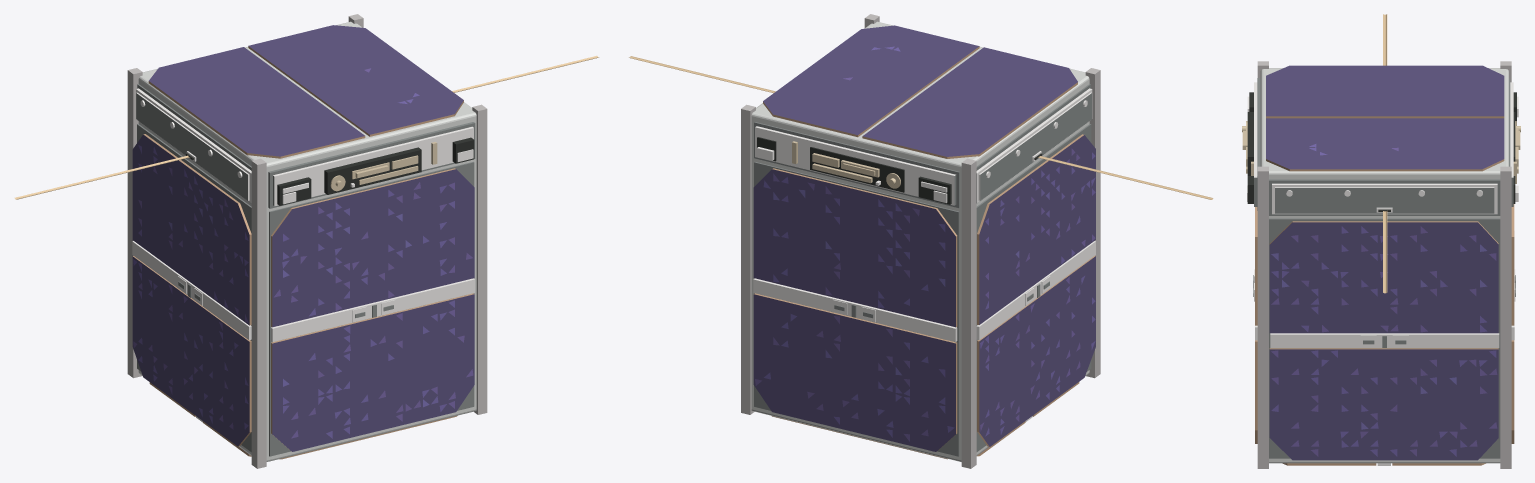
File: space-cubesat-1ru.glb
3 views of the same model, side by side, from view 1: azimuth 30°, elevation 25°; view 2: azimuth 150°, elevation 25°; view 3: azimuth 270°, elevation 25° (orthographic). The views are drawn at different scales.
Visible parts, largest first — view 1: Layer_0; view 2: Layer_0; view 3: Layer_0.
Boxes of the visible parts, bbox=[...] form: Layer_0: bbox=[14, 14, 598, 468]; Layer_0: bbox=[629, 14, 1213, 468]; Layer_0: bbox=[1242, 14, 1520, 468].
Size of the model in its own units: 5.19 by 2.6 by 2.2.
2 materials, 2 textured.
